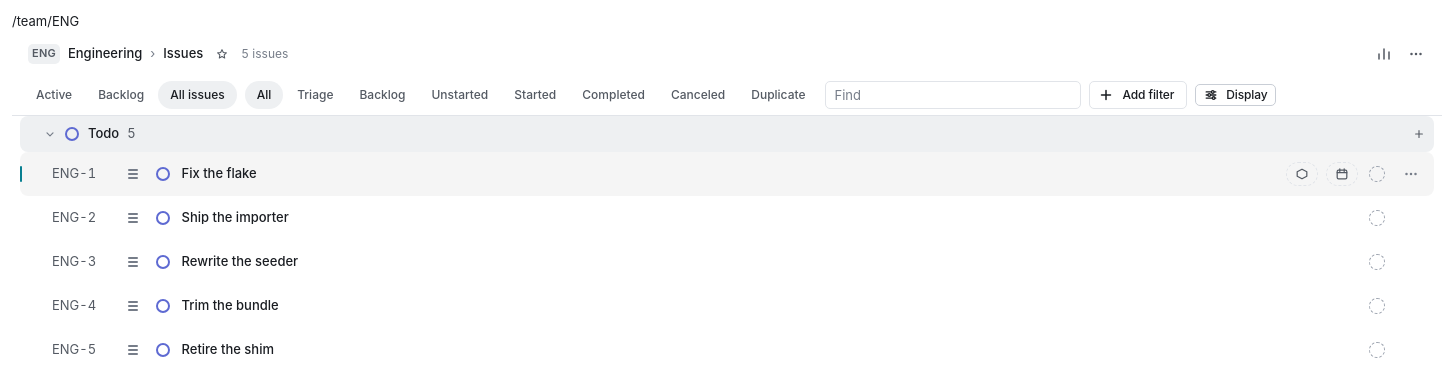
a property glyph in a row › opens the picker for that property instead of opening the issue
Click the button named "Todo" next to "Ship the importer": (162, 218) [152, 206, 174, 228]
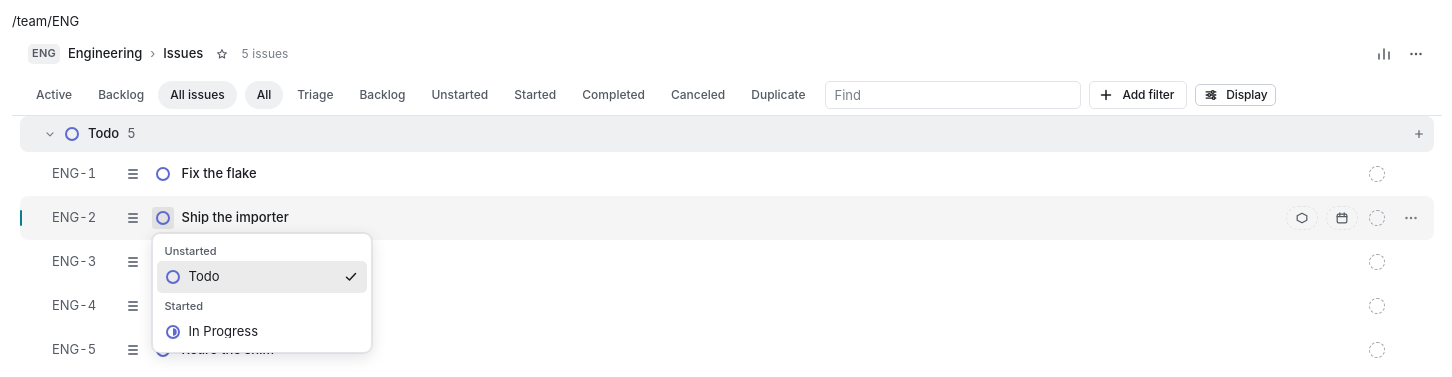
Expected: the text with test id "location" reads "/team/ENG", [12, 13, 79, 29]
Expected: the menu named "Status" is shown, [156, 238, 366, 348]
